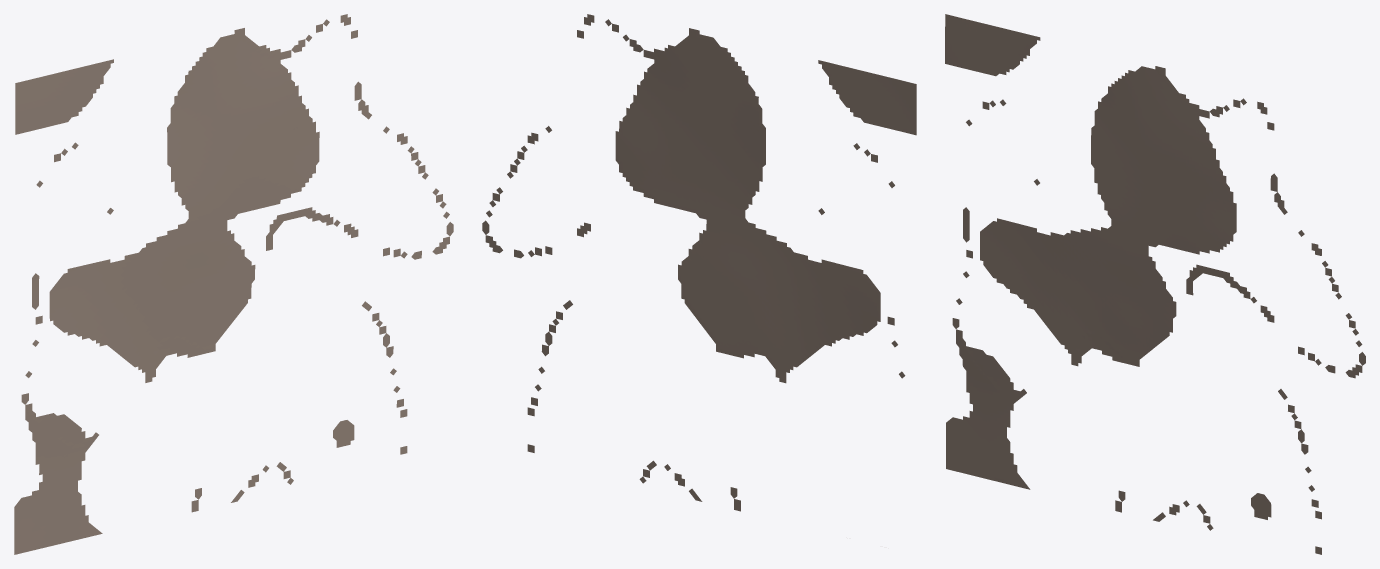
File: L05_shell.glb
3 views of the same model, side by side, from view 1: azimuth 30°, elevation 25°; view 2: azimuth 150°, elevation 25°; view 3: azimuth 330°, elevation 25° (orthographic). The views are drawn at different scales.
Visible parts, largest first — view 1: world; view 2: world; view 3: world.
Part boxes in pixels (x1,y1,x2,y2): world: (14, 14, 453, 554); world: (482, 14, 916, 511); world: (945, 14, 1365, 554).
Size of the model in its own units: 12400 by 12800 by 102.
